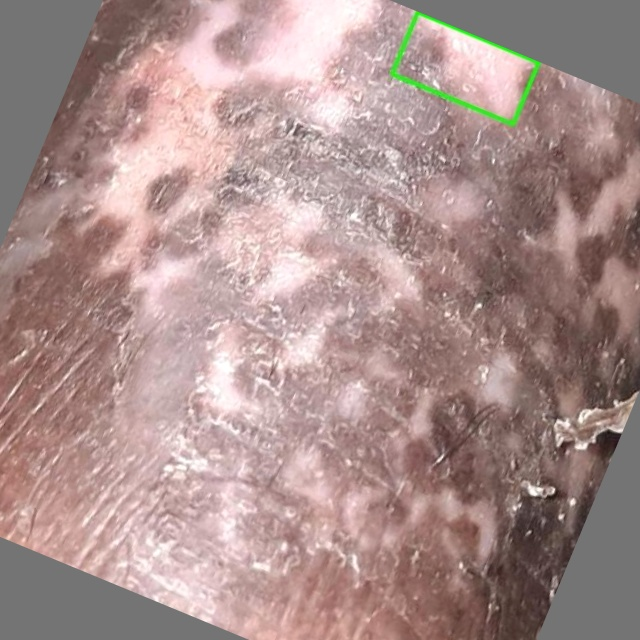Eczema: (392, 12, 538, 124)
